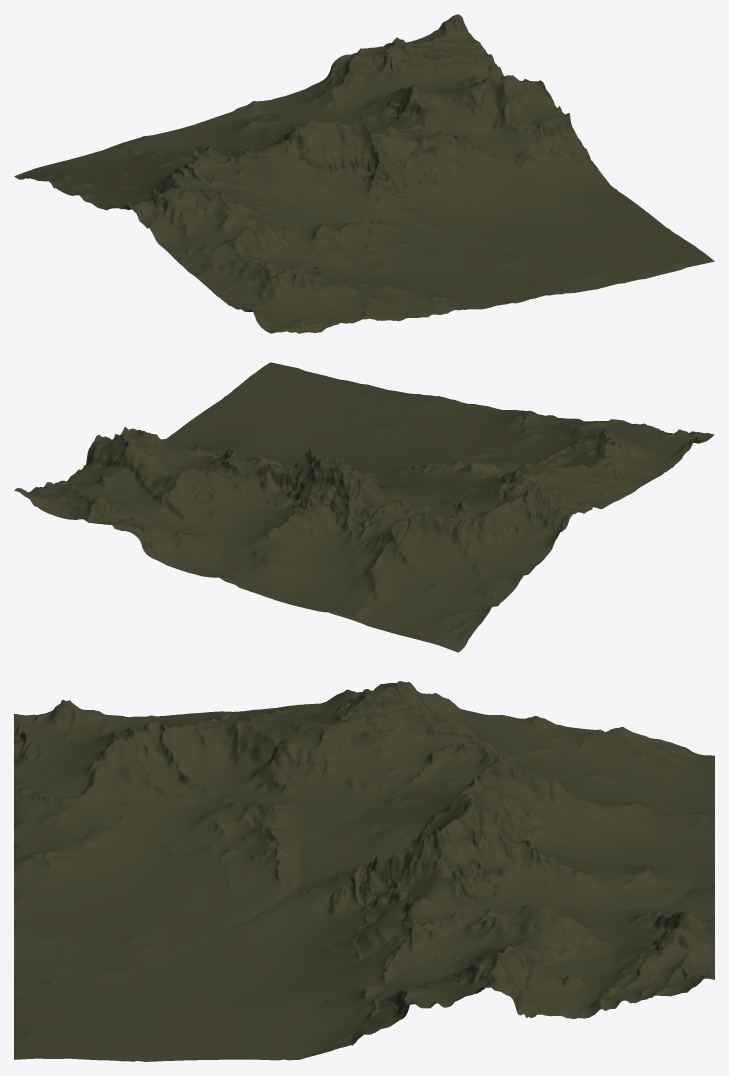
File: terrain.glb
The picture shows the model from 3 angles, top to bottom: view 1: azimuth 30°, elevation 25°; view 2: azimuth 150°, elevation 25°; view 3: azimuth 270°, elevation 25°; orthographic projection. The views are drawn at different scales.
Visible parts, largest first — view 1: Mountain Valley Terrain; view 2: Mountain Valley Terrain; view 3: Mountain Valley Terrain.
Boxes of the visible parts, box(x1,y1,x2,y2) form: Mountain Valley Terrain: box(14, 14, 714, 333); Mountain Valley Terrain: box(14, 362, 714, 652); Mountain Valley Terrain: box(14, 681, 714, 1061).
Bounding box in the file's own units: 197 × 33.08 × 197.
